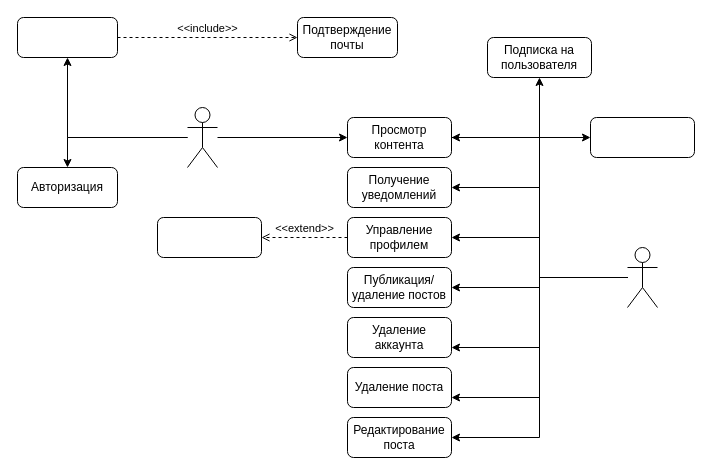
This 713x475 diagram has some shape labels left out. Each missing label, with the centre of its shape:
Авторизированный пользователь: (642,277)
Гость: (202,137)
Изменение фото профиля: (209,237)
Отписка от пользователя: (642,137)
Регистрация: (67,37)
